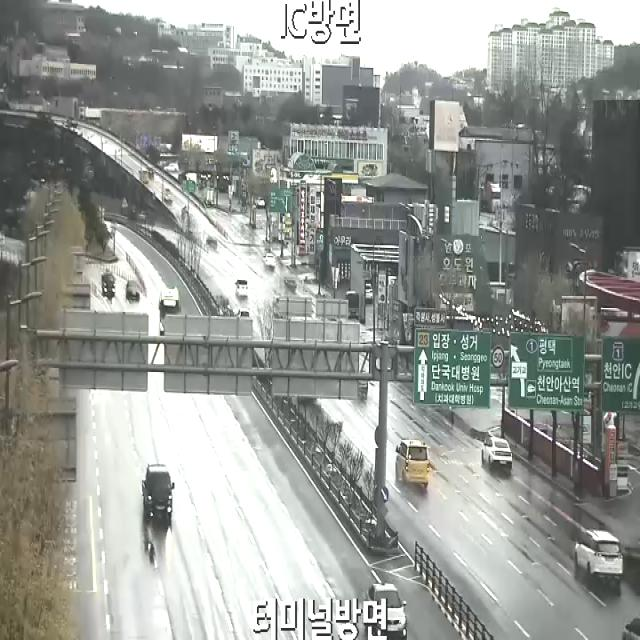Bus: (159, 288, 180, 334)
Car: (575, 530, 623, 576), (367, 584, 407, 636), (396, 439, 429, 484), (482, 437, 512, 465), (622, 618, 640, 640), (346, 291, 358, 318), (101, 274, 115, 294), (126, 280, 140, 300), (235, 277, 248, 296), (358, 370, 368, 393), (264, 254, 275, 266), (285, 276, 296, 288), (365, 283, 372, 300), (164, 188, 172, 202), (238, 308, 249, 318), (255, 197, 265, 208)
Truck: (142, 465, 175, 515)
